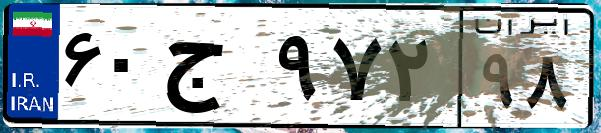0: (110, 28, 158, 98)
2: (385, 28, 445, 110)
6: (57, 26, 110, 100)
7: (330, 28, 385, 110)
8: (525, 38, 570, 115)
9: (270, 28, 330, 110), (475, 38, 525, 113)
ج: (158, 20, 270, 120)
